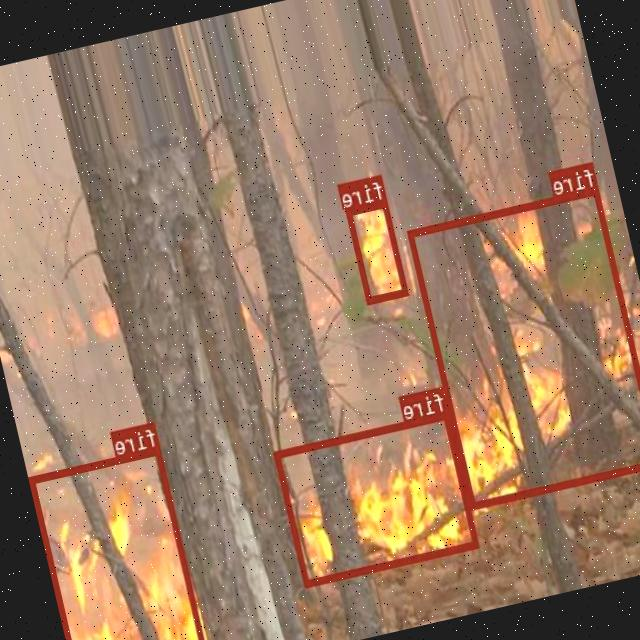fire: (408, 185, 640, 507), (275, 410, 480, 585), (30, 446, 211, 640), (346, 196, 410, 302)
